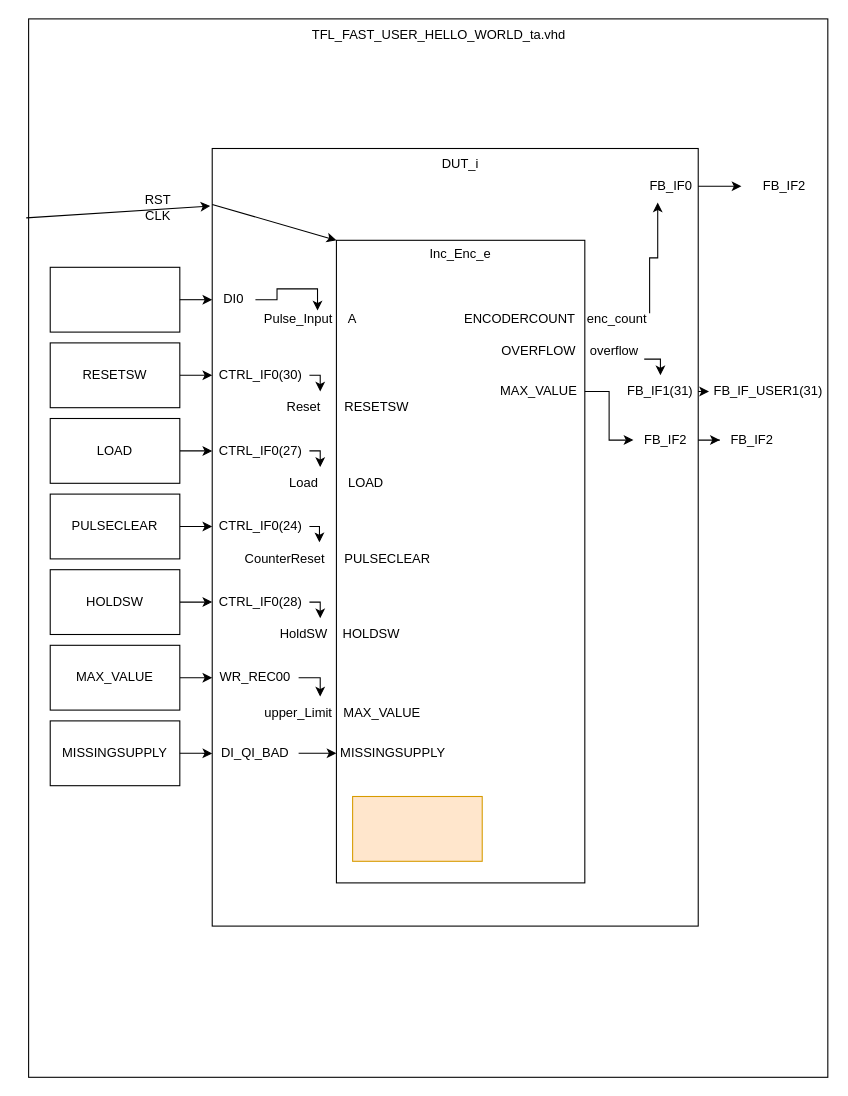
This 848x1096 diagram has some shape labels left out. Each missing label, with the centre of its shape:
"A_Signal" goes at [114,299].
"LOAD_VALUE & RESTE_VALUE & MIN_VALUE = 0" goes at [417,828].
